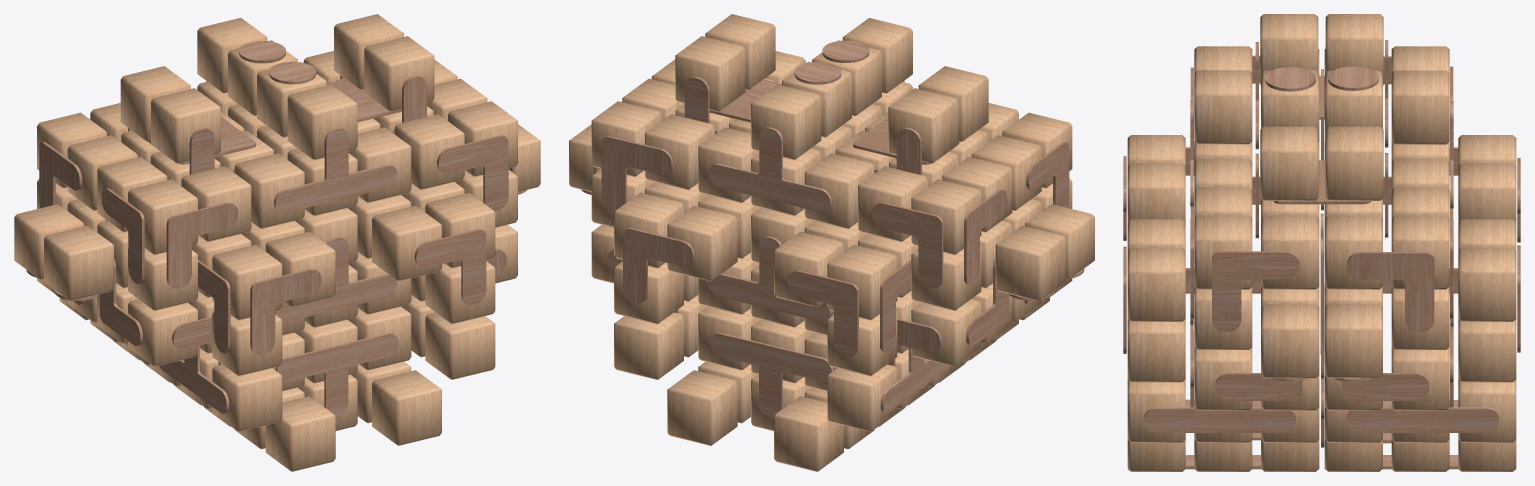
The model's file is level_85.fbx.
3 renders of one model, left to right at view 1: azimuth 30°, elevation 25°; view 2: azimuth 150°, elevation 25°; view 3: azimuth 270°, elevation 25°, orthographic. The views are drawn at different scales.
Visible parts, largest first — view 1: Cube.005, Cube.135, Cube.001, obj_obs_T.004, obj_obs_T.006, Cube.009, Cube.128, Cube.008, Cube.054, Cube.111, Cube.090, Cube.048 (+69 smaller); view 2: Cube.012, Cube.002, Cube.007, obj_obs_T.001, obj_obs_T.003, Cube.174, Cube.080, Cube.004, Cube.102, Cube.042, Cube.014, Cube.035 (+68 smaller); view 3: Cube.174, Cube.006, Cube.128, Cube.085, Cube.013, Cube.102, Cube.054, Cube.136, obj_obs_L.022, obj_obs_L.021, obj_obs_T.009, obj_obs_T.010 (+60 smaller).
Part boxes in pixels (left/top/right/bottom): Cube.005: left=372, top=370, right=441, bottom=445; Cube.135: left=44, top=225, right=113, bottom=301; Cube.001: left=265, top=396, right=335, bottom=471; obj_obs_T.004: left=274, top=127, right=397, bottom=213; obj_obs_T.006: left=275, top=333, right=398, bottom=418; Cube.009: left=425, top=312, right=495, bottom=379; Cube.128: left=287, top=84, right=357, bottom=160; Cube.008: left=372, top=205, right=441, bottom=281; Cube.054: left=364, top=36, right=434, bottom=111; Cube.111: left=151, top=88, right=220, bottom=163; Cube.090: left=212, top=364, right=282, bottom=431; Cube.048: left=394, top=114, right=464, bottom=189; Cube.012: left=995, top=225, right=1065, bottom=301; Cube.002: left=667, top=370, right=737, bottom=445; Cube.007: left=774, top=396, right=843, bottom=471; obj_obs_T.001: left=708, top=127, right=831, bottom=212; obj_obs_T.003: left=710, top=332, right=833, bottom=417; Cube.174: left=751, top=84, right=821, bottom=159; Cube.080: left=614, top=312, right=683, bottom=379; Cube.004: left=667, top=205, right=737, bottom=281; Cube.102: left=675, top=36, right=745, bottom=111; Cube.042: left=888, top=88, right=958, bottom=163; Cube.014: left=827, top=364, right=897, bottom=431; Cube.035: left=804, top=153, right=874, bottom=228; Cube.174: left=1391, top=70, right=1449, bottom=144; Cube.006: left=1324, top=304, right=1382, bottom=378; Cube.128: left=1194, top=70, right=1252, bottom=144; Cube.085: left=1458, top=247, right=1516, bottom=321; Cube.013: left=1127, top=247, right=1185, bottom=321; Cube.102: left=1325, top=126, right=1383, bottom=200; Cube.054: left=1260, top=126, right=1318, bottom=200; Cube.136: left=1261, top=304, right=1319, bottom=378; obj_obs_L.022: left=1212, top=251, right=1299, bottom=331; obj_obs_L.021: left=1346, top=252, right=1434, bottom=332; obj_obs_T.009: left=1143, top=407, right=1296, bottom=432; obj_obs_T.010: left=1347, top=407, right=1499, bottom=432.
Size of the model in its own units: 20.41 by 13.64 by 13.69.
